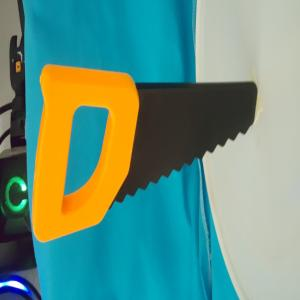serrote: (31, 65, 258, 242)
